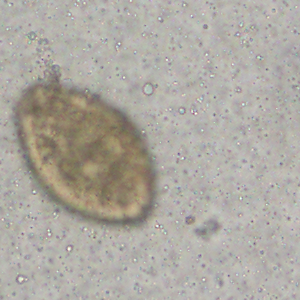Fasciola_hepatica_egg: (13, 83, 157, 224)
